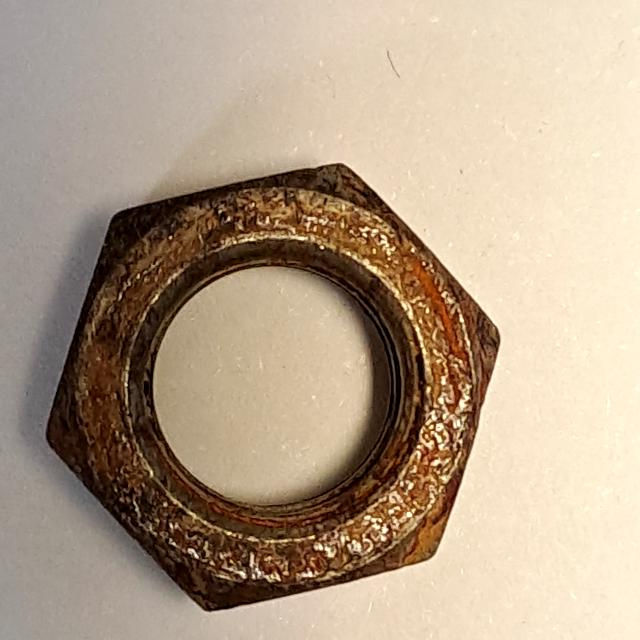Rust: (31, 153, 516, 620)
